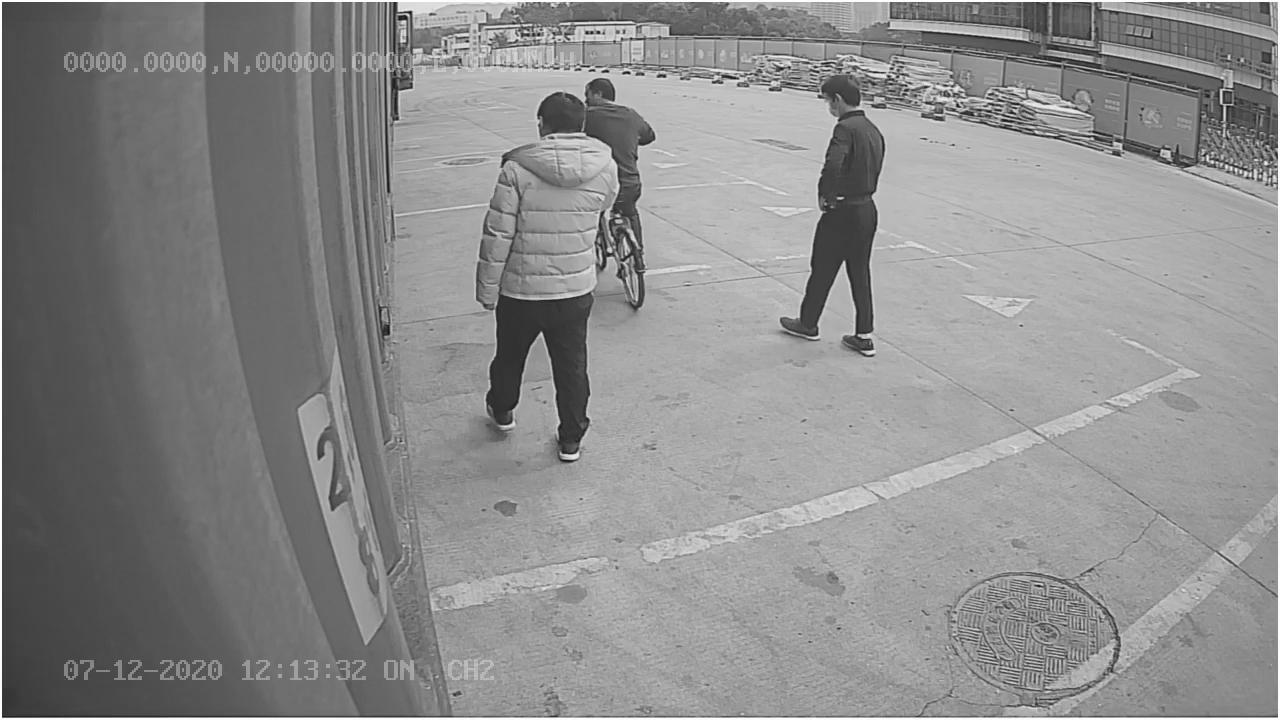person: (775, 70, 888, 358)
